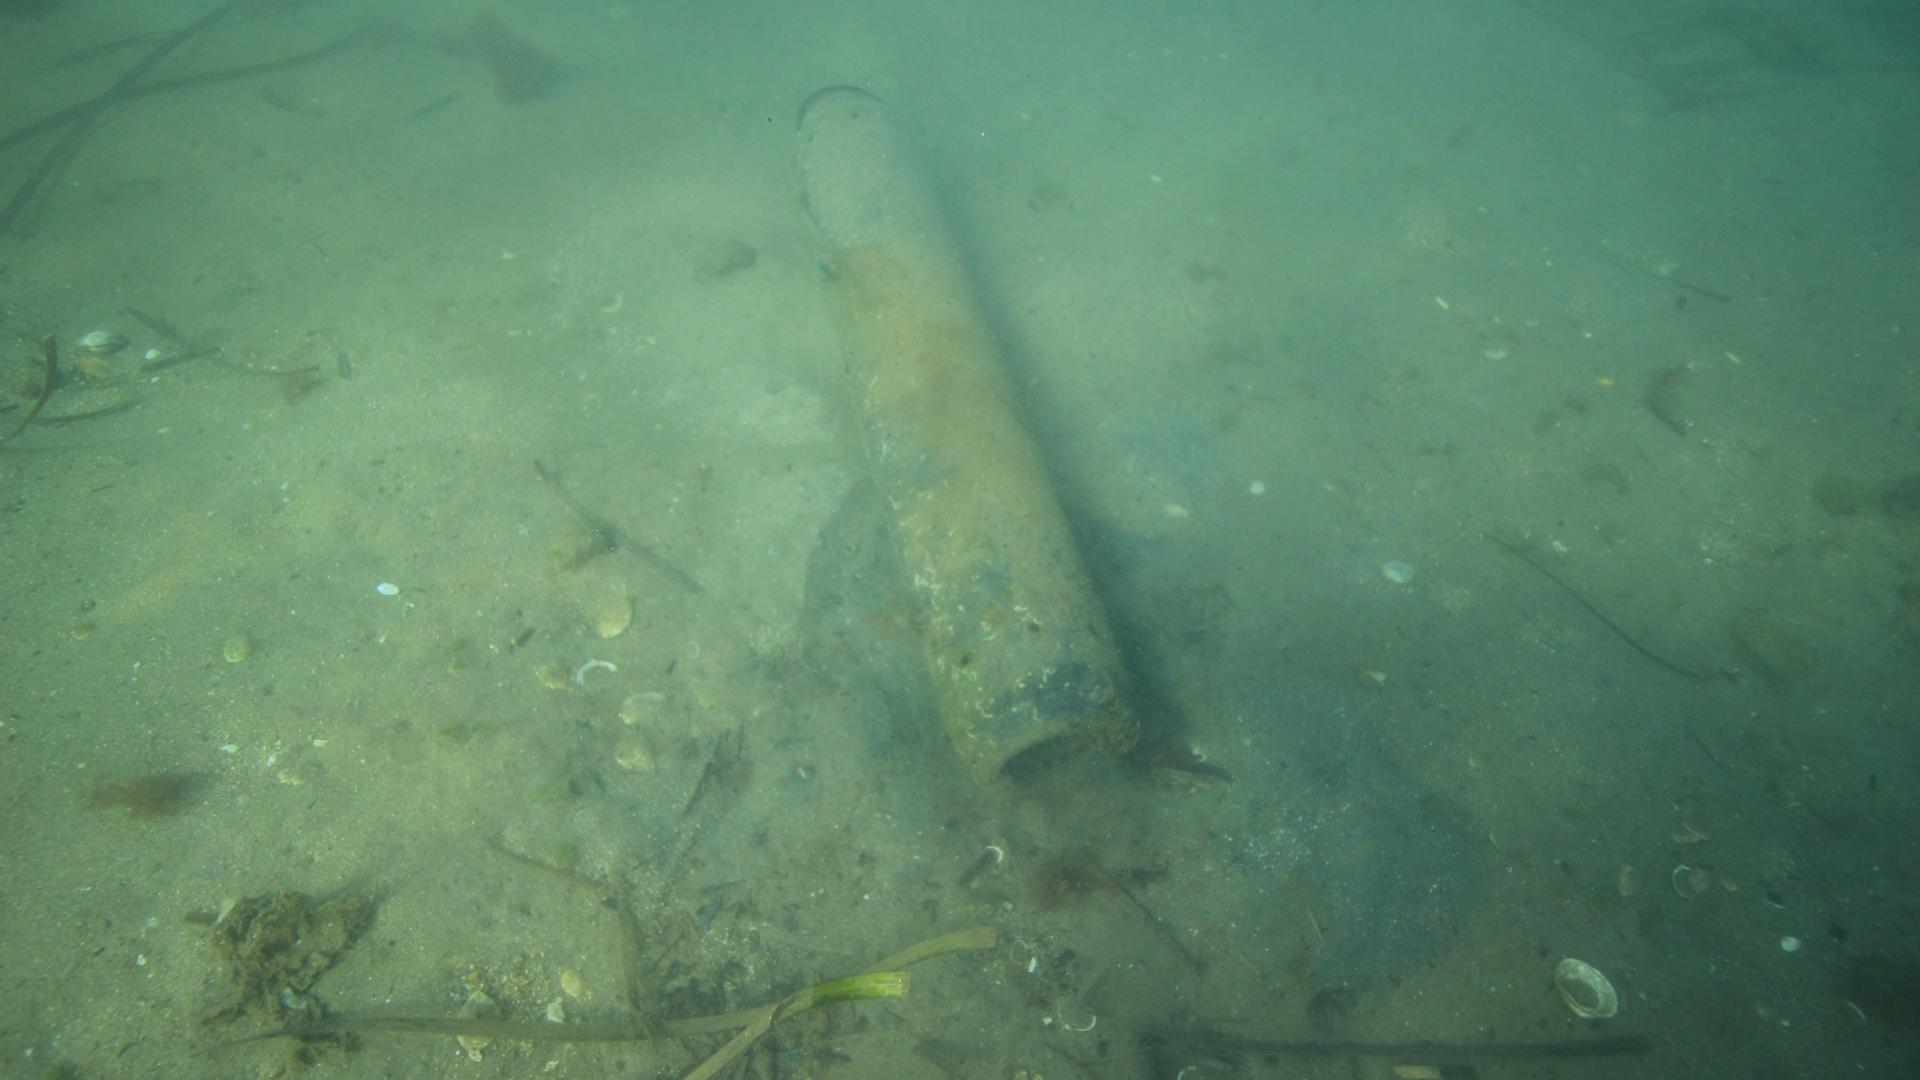eel fish trap: (793, 79, 1145, 800)
